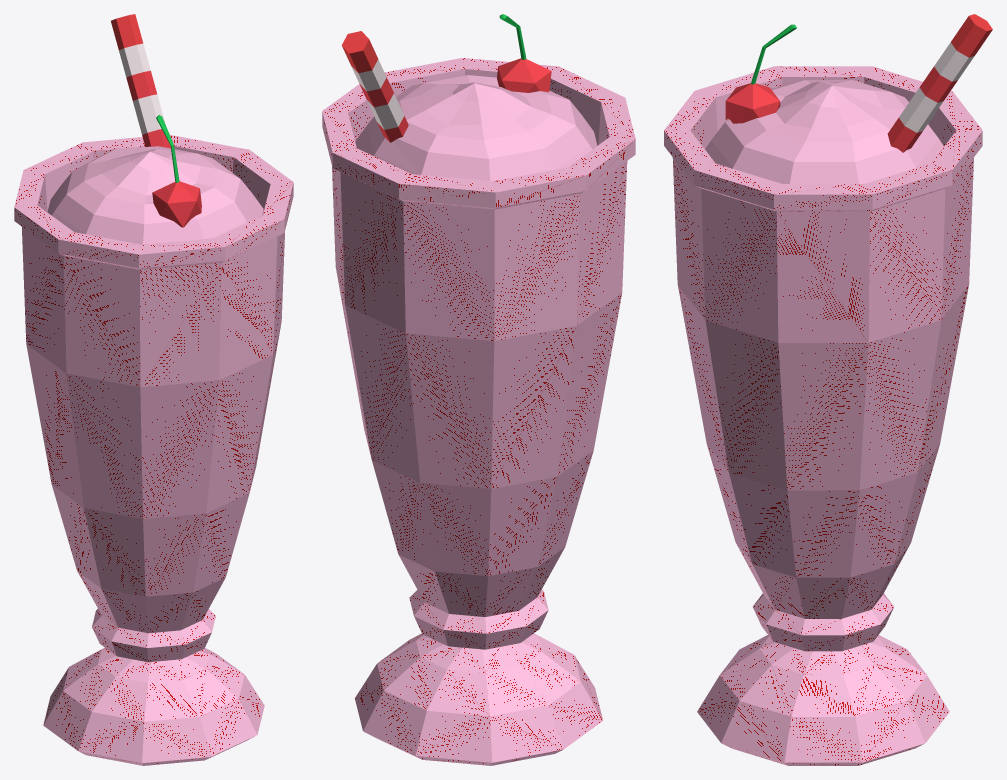
Rendered from quaternius-junk-food-milkshake.glb.
The picture shows the model from 3 angles, left to right: view 1: azimuth 30°, elevation 25°; view 2: azimuth 150°, elevation 25°; view 3: azimuth 270°, elevation 25°; orthographic projection. The views are drawn at different scales.
Parts seen in each view (by area): view 1: Glass; view 2: Glass; view 3: Glass.
Part boxes in pixels (bbox=[...]): Glass: bbox=[14, 14, 293, 765]; Glass: bbox=[322, 14, 635, 765]; Glass: bbox=[664, 14, 992, 765].
Bounding box in the file's own units: 0.7046 × 1.86 × 0.7644.
1 material, 1 textured.
